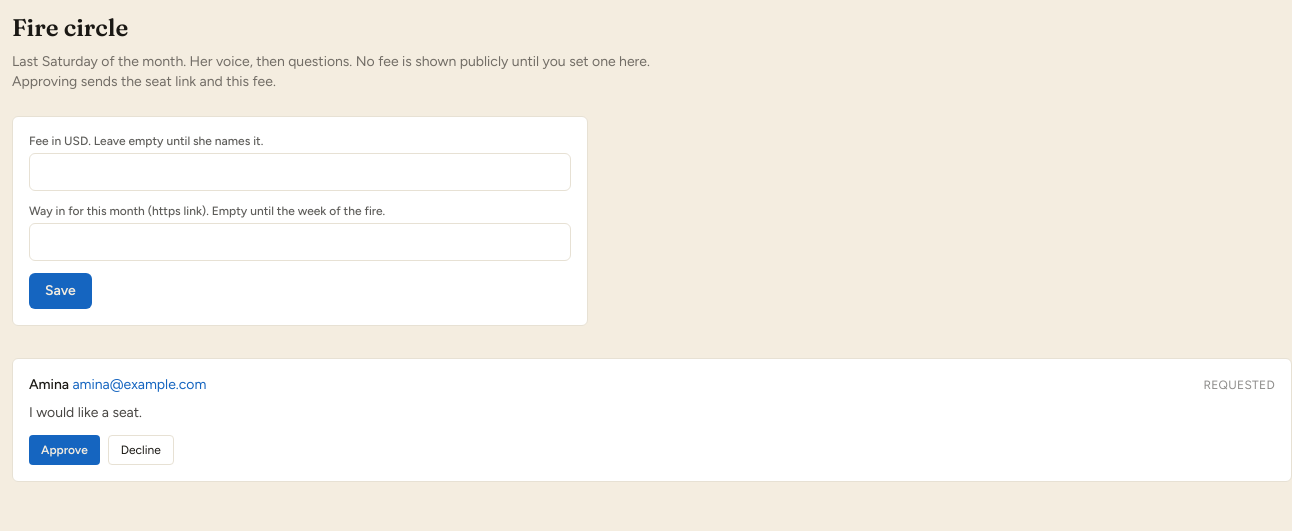
it: FireCircleAdmin save › reports a rejected save rather than showing nothing
Click the button "Save": (60, 291) [29,273,92,309]
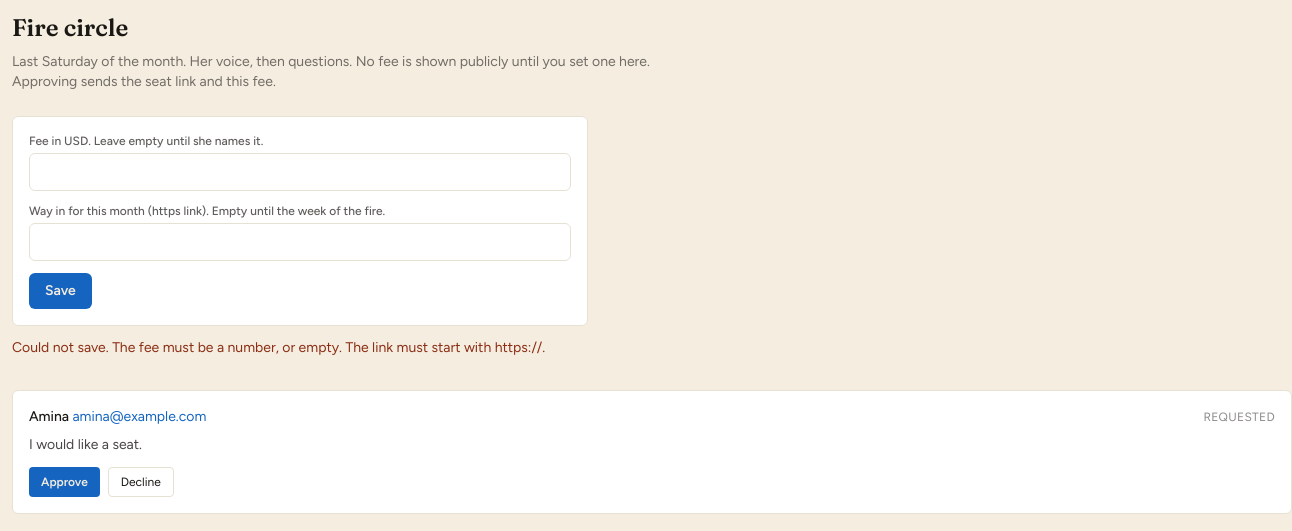
Result: the message shows "Could not save" at [12,339,545,356]
